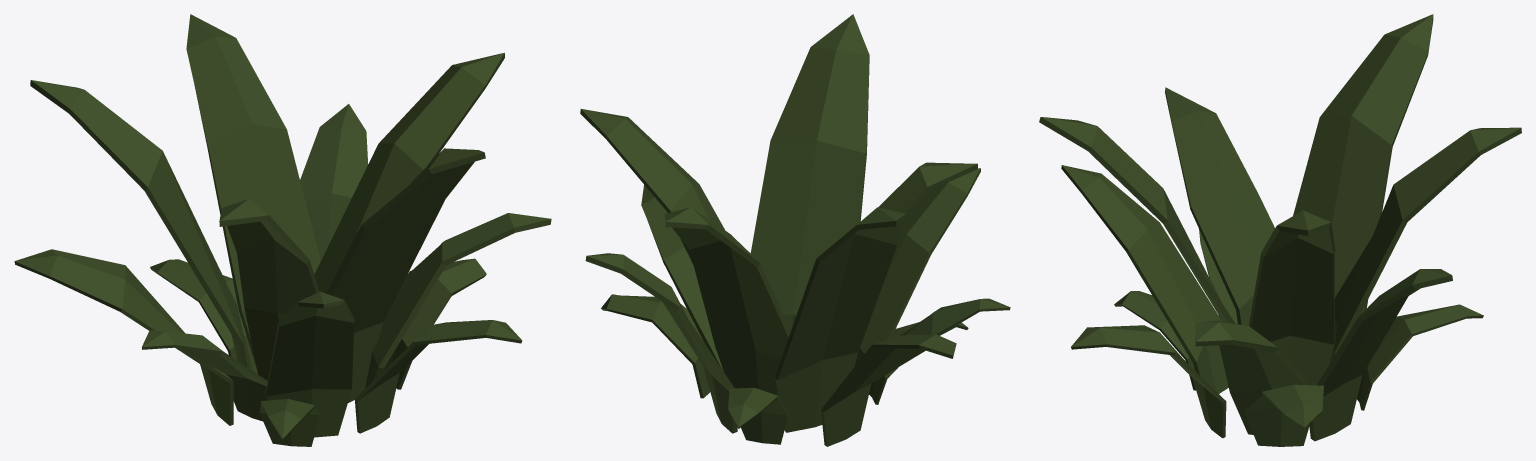
File: Grass5.fbx
3 renders of one model, left to right at view 1: azimuth 30°, elevation 25°; view 2: azimuth 150°, elevation 25°; view 3: azimuth 270°, elevation 25°, orthographic. The views are drawn at different scales.
Parts seen in each view (by area): view 1: Fern; view 2: Fern; view 3: Fern.
Boxes of the visible parts, box(x1,y1,x2,y2) form: Fern: box(14, 14, 551, 446); Fern: box(580, 14, 1010, 446); Fern: box(1039, 14, 1521, 446).
Bounding box in the file's own units: 51.41 × 36.56 × 49.69.
